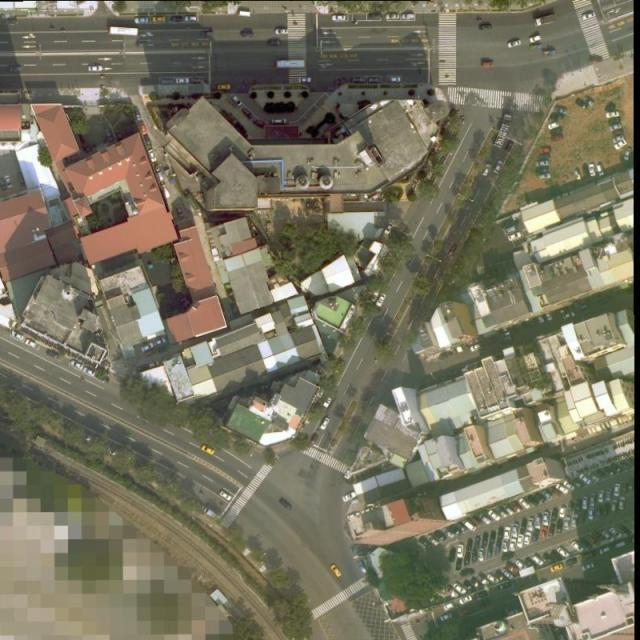vehicle: (200, 504, 218, 520), (277, 60, 306, 69), (110, 27, 139, 36), (328, 562, 343, 579), (199, 443, 216, 458), (469, 577, 485, 592), (522, 557, 538, 572), (514, 559, 530, 574), (477, 575, 493, 590), (433, 529, 449, 544), (591, 530, 607, 545), (462, 581, 477, 596), (417, 534, 432, 549), (601, 530, 617, 544), (446, 524, 462, 538), (617, 522, 631, 538), (462, 519, 478, 533), (485, 573, 502, 586), (500, 568, 515, 582), (230, 92, 244, 107), (478, 513, 492, 528), (530, 554, 546, 567), (607, 526, 623, 539), (570, 540, 586, 553), (453, 522, 469, 535), (586, 534, 602, 547), (383, 222, 396, 238), (446, 242, 459, 258), (486, 510, 502, 523), (518, 497, 534, 510), (560, 310, 577, 322), (549, 562, 566, 574), (596, 468, 610, 482), (241, 106, 255, 120), (558, 546, 571, 561), (452, 582, 467, 595), (502, 224, 517, 237), (468, 516, 483, 529), (531, 492, 546, 505), (69, 358, 84, 371), (82, 365, 97, 378), (217, 489, 232, 502), (357, 559, 369, 575), (562, 480, 578, 492), (562, 515, 572, 534), (3, 173, 14, 190), (175, 206, 186, 223), (153, 164, 164, 181), (279, 496, 292, 510), (495, 506, 509, 519), (602, 466, 616, 479), (578, 473, 592, 486), (501, 504, 515, 517), (542, 551, 556, 564), (442, 600, 457, 612), (458, 594, 473, 606), (524, 494, 539, 506), (140, 341, 155, 353), (578, 538, 593, 550), (9, 331, 25, 342), (319, 414, 330, 430), (308, 431, 319, 447), (603, 486, 613, 503), (574, 98, 588, 110), (618, 460, 630, 474), (550, 548, 562, 562), (492, 159, 503, 174), (342, 491, 357, 502), (142, 134, 153, 149), (350, 75, 366, 85), (546, 120, 562, 130), (146, 360, 162, 370), (554, 484, 570, 494), (581, 562, 594, 574), (614, 139, 627, 151), (546, 486, 559, 498), (610, 464, 622, 477), (507, 232, 521, 243), (570, 479, 584, 490), (375, 293, 386, 307), (508, 38, 522, 49), (147, 149, 158, 163), (482, 162, 492, 177), (526, 517, 536, 532), (469, 342, 484, 352), (438, 613, 454, 622), (541, 490, 553, 502), (332, 13, 348, 22), (516, 534, 525, 550), (25, 338, 38, 349), (322, 397, 333, 410), (139, 122, 150, 135), (596, 164, 606, 178), (623, 147, 633, 161), (505, 139, 515, 153), (564, 558, 578, 568), (530, 528, 540, 542), (529, 35, 543, 45), (104, 128, 114, 142), (610, 498, 618, 515), (272, 27, 289, 35), (472, 590, 487, 599), (551, 112, 566, 121), (611, 134, 626, 143), (586, 472, 598, 483), (46, 349, 59, 359), (554, 104, 567, 114), (614, 483, 622, 499), (87, 64, 103, 72), (132, 16, 148, 24), (542, 510, 550, 526), (570, 514, 578, 530), (573, 500, 582, 514), (480, 533, 489, 547), (4, 19, 22, 26), (581, 10, 595, 19), (386, 12, 400, 21), (588, 54, 602, 63), (588, 493, 597, 507), (456, 544, 465, 558), (608, 123, 623, 131), (606, 110, 621, 118), (8, 66, 23, 74), (154, 337, 166, 347), (217, 83, 232, 91), (503, 526, 511, 541), (400, 14, 417, 21), (596, 490, 605, 503), (598, 546, 612, 554), (494, 542, 501, 558), (464, 552, 471, 568), (454, 558, 462, 572), (297, 76, 313, 83), (151, 15, 167, 22), (174, 77, 190, 84), (511, 523, 518, 539), (502, 540, 510, 554), (581, 496, 589, 510), (449, 546, 455, 564), (588, 506, 595, 521), (367, 76, 382, 83), (535, 166, 550, 173), (266, 39, 281, 46), (183, 15, 198, 22), (271, 118, 286, 125), (478, 547, 485, 562), (535, 514, 542, 529), (509, 538, 516, 553), (582, 163, 590, 176), (470, 550, 478, 563), (519, 521, 527, 534), (548, 524, 556, 537), (602, 505, 610, 518), (134, 107, 142, 120), (169, 14, 183, 21), (524, 532, 531, 546), (560, 504, 567, 518), (618, 498, 626, 510), (534, 160, 550, 166), (486, 546, 494, 558), (550, 509, 558, 521), (580, 510, 586, 526), (594, 506, 602, 518), (546, 310, 554, 322), (589, 163, 596, 176), (474, 538, 481, 551), (466, 541, 473, 554), (539, 147, 552, 154), (538, 153, 551, 160), (238, 10, 251, 17), (479, 26, 494, 32), (574, 171, 583, 181), (388, 77, 403, 83), (481, 62, 496, 68), (489, 532, 497, 543), (542, 51, 554, 58), (496, 530, 503, 542), (368, 12, 382, 18), (550, 134, 564, 140), (1, 174, 6, 190), (240, 31, 253, 37), (254, 119, 265, 126), (199, 30, 214, 35), (557, 518, 562, 532), (502, 327, 510, 335)
